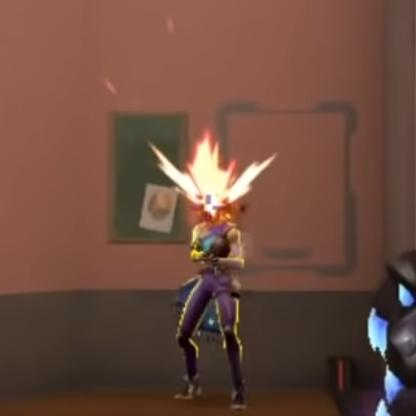enemyHead: (204, 189, 224, 217)
